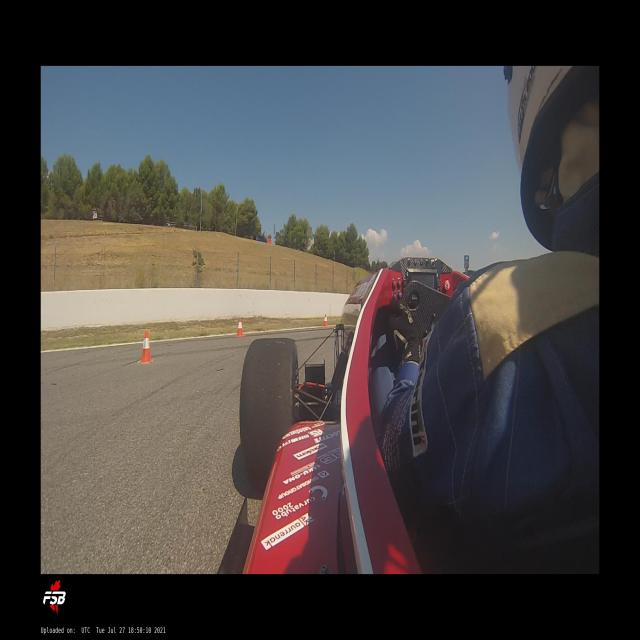orange_cone: (138, 330, 153, 364), (236, 318, 244, 337), (323, 314, 328, 327)
